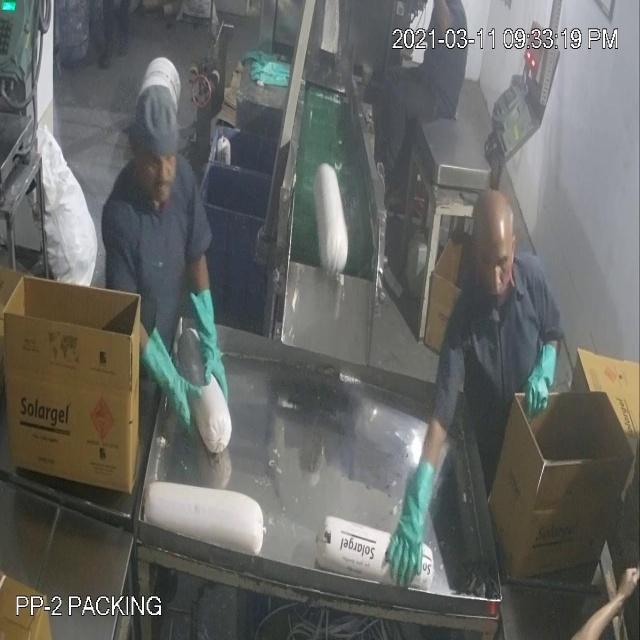Guantes: (134, 308, 204, 448), (387, 450, 439, 594), (509, 321, 565, 432), (192, 277, 234, 405)
